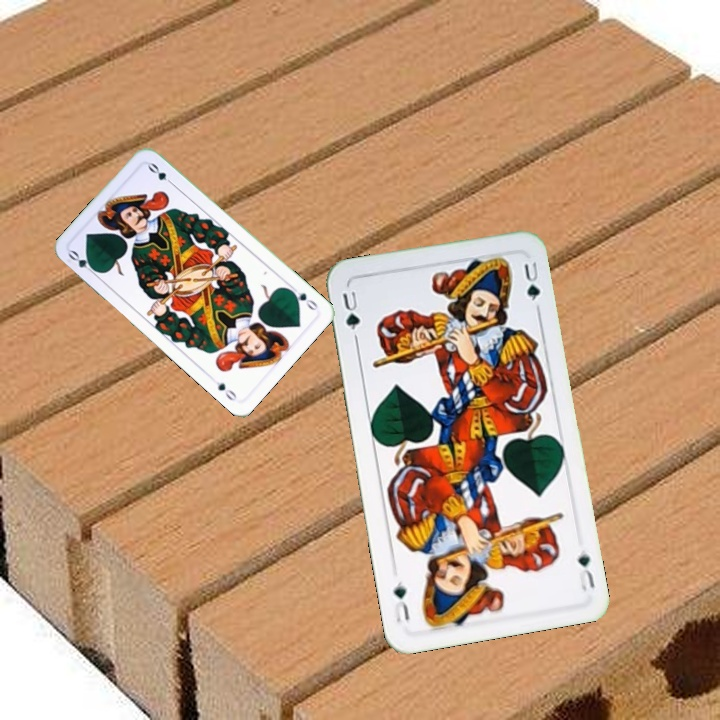GO: (64, 246, 101, 278), (285, 282, 320, 313)
GU: (338, 287, 363, 342), (573, 545, 598, 594)
